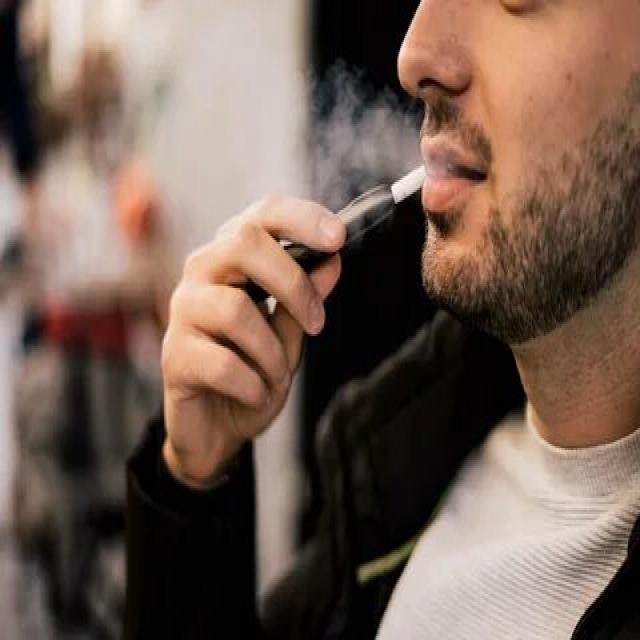cigarette: (280, 156, 429, 290)
